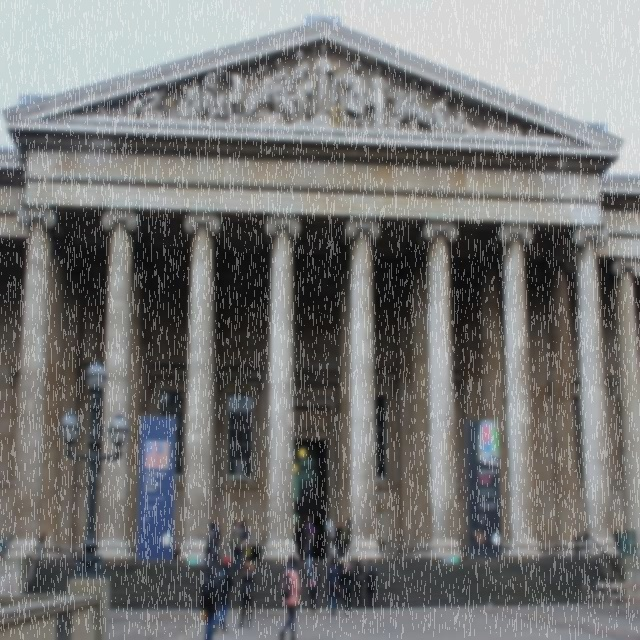pessoa: (199, 547, 222, 640), (279, 554, 301, 640), (214, 556, 234, 634), (236, 555, 256, 629), (326, 558, 341, 616), (340, 560, 355, 616), (230, 520, 244, 576), (364, 558, 378, 610), (308, 560, 320, 616), (302, 530, 314, 584), (352, 559, 364, 610), (240, 518, 250, 562), (205, 530, 218, 562), (339, 523, 351, 556), (209, 518, 221, 550), (302, 517, 316, 544), (337, 551, 345, 596), (294, 520, 302, 560), (335, 520, 343, 560), (300, 522, 306, 560), (345, 517, 351, 553), (328, 553, 338, 571), (340, 520, 348, 536), (236, 516, 242, 528)
